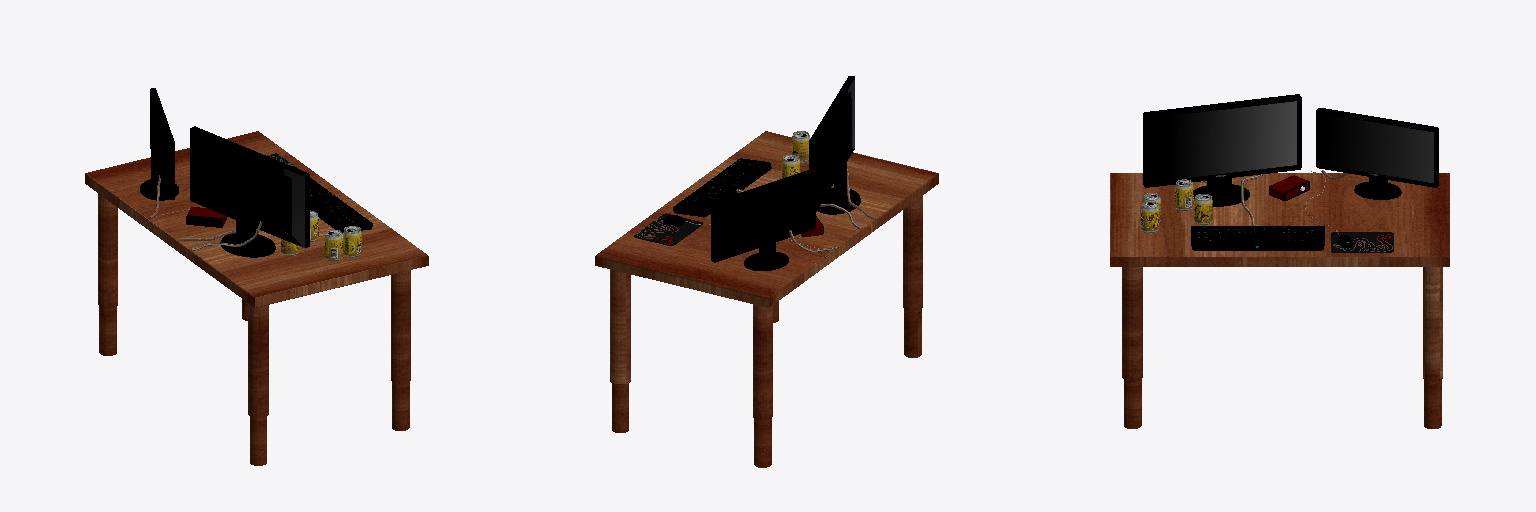
3 views of the same model, side by side, from view 1: azimuth 30°, elevation 25°; view 2: azimuth 150°, elevation 25°; view 3: azimuth 270°, elevation 25° (orthographic).
Parts seen in each view (by area): view 1: defaultMaterial.010_defaultMaterial.010_lambert15SG, defaultMaterial.009_defaultMaterial.009_lambert13SG, defaultMaterial.013_defaultMaterial.013_lambert12SG, defaultMaterial.011_defaultMaterial.011_lambert14SG, defaultMaterial.008_defaultMaterial.008_lambert16SG; view 2: defaultMaterial.010_defaultMaterial.010_lambert15SG, defaultMaterial.009_defaultMaterial.009_lambert13SG, defaultMaterial.011_defaultMaterial.011_lambert14SG, defaultMaterial.014_defaultMaterial.014_lambert11SG, defaultMaterial.013_defaultMaterial.013_lambert12SG; view 3: defaultMaterial.010_defaultMaterial.010_lambert15SG, defaultMaterial.009_defaultMaterial.009_lambert13SG, defaultMaterial.011_defaultMaterial.011_lambert14SG, defaultMaterial.013_defaultMaterial.013_lambert12SG, defaultMaterial.014_defaultMaterial.014_lambert11SG, defaultMaterial.008_defaultMaterial.008_lambert16SG.
Boxes of the visible parts, <box> form: defaultMaterial.010_defaultMaterial.010_lambert15SG: <box>85,131,428,465</box>; defaultMaterial.009_defaultMaterial.009_lambert13SG: <box>140,88,309,257</box>; defaultMaterial.013_defaultMaterial.013_lambert12SG: <box>281,210,361,261</box>; defaultMaterial.011_defaultMaterial.011_lambert14SG: <box>310,178,372,232</box>; defaultMaterial.008_defaultMaterial.008_lambert16SG: <box>186,207,226,227</box>; defaultMaterial.010_defaultMaterial.010_lambert15SG: <box>595,131,938,467</box>; defaultMaterial.009_defaultMaterial.009_lambert13SG: <box>711,76,860,270</box>; defaultMaterial.011_defaultMaterial.011_lambert14SG: <box>673,158,771,217</box>; defaultMaterial.014_defaultMaterial.014_lambert11SG: <box>634,213,702,245</box>; defaultMaterial.013_defaultMaterial.013_lambert12SG: <box>782,131,833,185</box>; defaultMaterial.010_defaultMaterial.010_lambert15SG: <box>1110,173,1449,428</box>; defaultMaterial.009_defaultMaterial.009_lambert13SG: <box>1143,94,1438,206</box>; defaultMaterial.011_defaultMaterial.011_lambert14SG: <box>1191,226,1324,250</box>; defaultMaterial.013_defaultMaterial.013_lambert12SG: <box>1141,179,1212,233</box>; defaultMaterial.014_defaultMaterial.014_lambert11SG: <box>1331,232,1393,252</box>; defaultMaterial.008_defaultMaterial.008_lambert16SG: <box>1269,175,1309,200</box>.
Bounding box in the file's own units: 1.19 × 1.75 × 2.
8 materials, 8 textured.